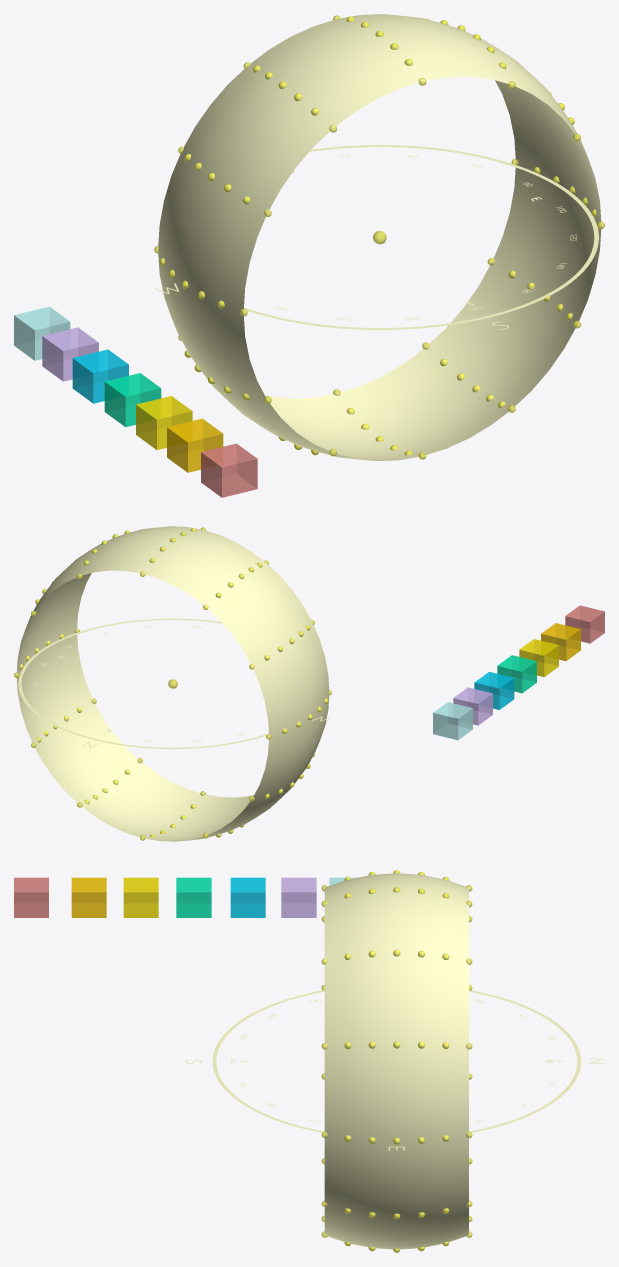
The picture shows the model from 3 angles, top to bottom: view 1: azimuth 30°, elevation 25°; view 2: azimuth 150°, elevation 25°; view 3: azimuth 270°, elevation 25°; orthographic projection. The views are drawn at different scales.
Parts seen in each view (by area): view 1: Geom3D_sky_sky, Geom3D_Component#52 (×7), Geom3D; view 2: Geom3D_sky_sky, Geom3D_Component#52 (×7), Geom3D; view 3: Geom3D_sky_sky, Geom3D_Component#52 (×6), Geom3D.
Part boxes in pixels (box(x1,y1,x2,y2)): Geom3D_sky_sky: box(158, 14, 601, 460); Geom3D_Component#52 (×7): box(14, 306, 257, 497); Geom3D: box(244, 145, 598, 329); Geom3D_sky_sky: box(16, 526, 329, 841); Geom3D_Component#52 (×7): box(433, 605, 604, 740); Geom3D: box(18, 618, 268, 749); Geom3D_sky_sky: box(324, 873, 468, 1249); Geom3D_Component#52 (×6): box(14, 877, 316, 917); Geom3D: box(212, 990, 580, 1132).
Size of the model in its own units: 128 by 84.05 by 129.
